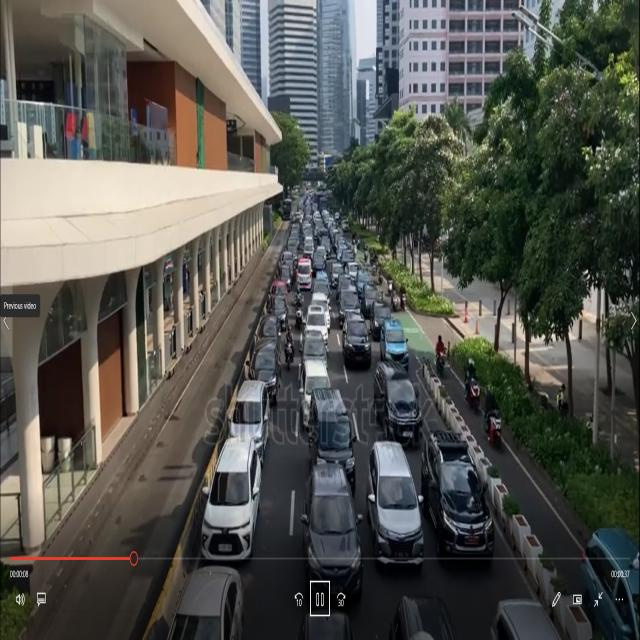Ambulance: (294, 254, 316, 298)
